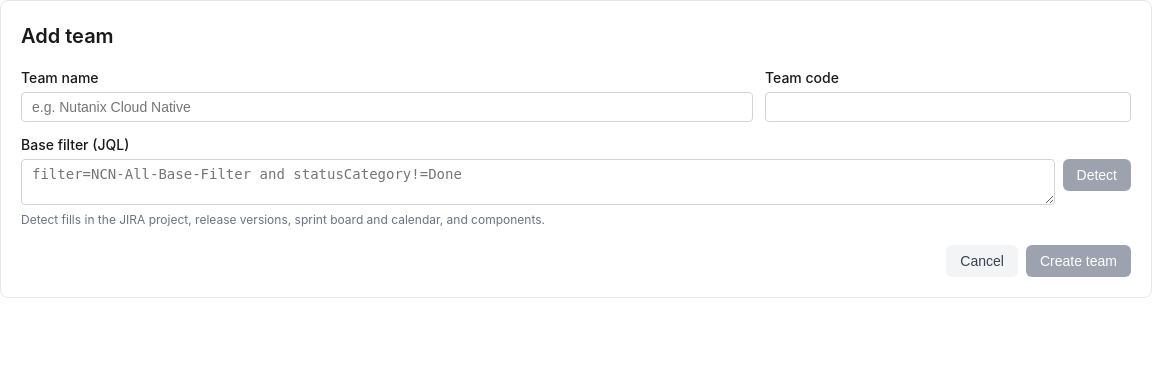
TeamForm › shows the server message when Detect fails
Type "filter=none" into the text box labelled "Base filter (JQL)" at (538, 182), box [21,159,1054,205]
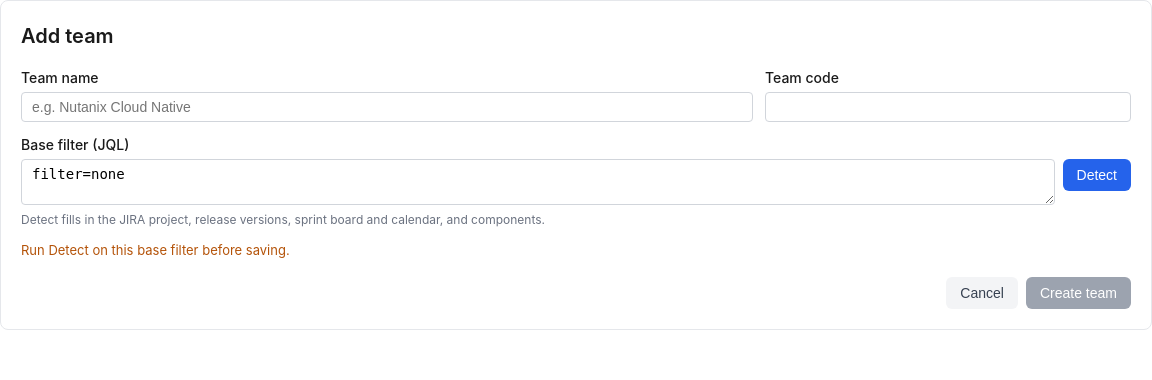
Click the button "Detect" at (1097, 175), box [1062,159,1131,191]
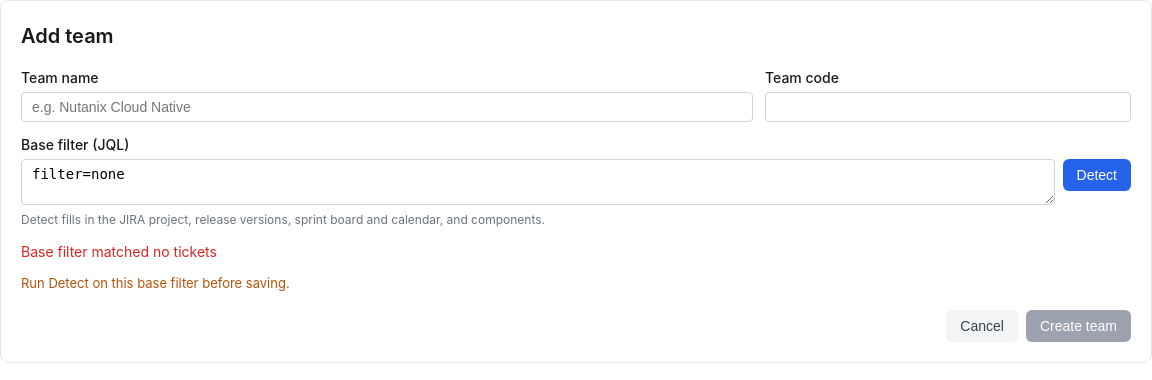
Result: the message reads "Base filter matched no tickets" at [21,243,217,260]
